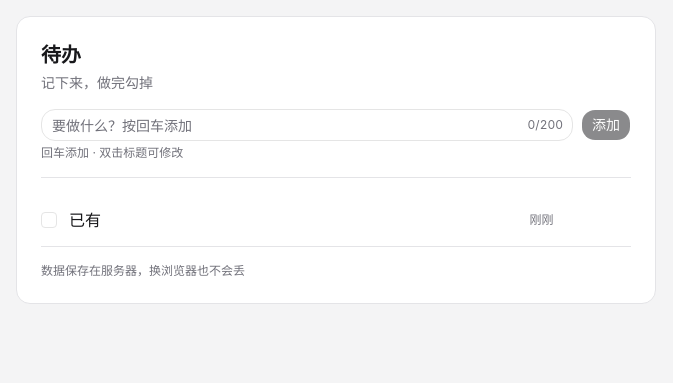
Test: Story 2.4 AddTodoForm / CapacityBanner（ATDD 主叶子） › [P1] AC-5 FE-A5 新增时后端返回 500（非 409）→ 显示操作失败提示而非容量横幅，输入仍可用、内容保留
The image size is (673, 383).
Check: the button with aria-label "编辑：已有" is shown, box 69,208 -> 517,232
Type "订周四会议室" into the field named "新增待办标题". click: [307, 125]
box: 41,109 -> 573,141
Then press Enter
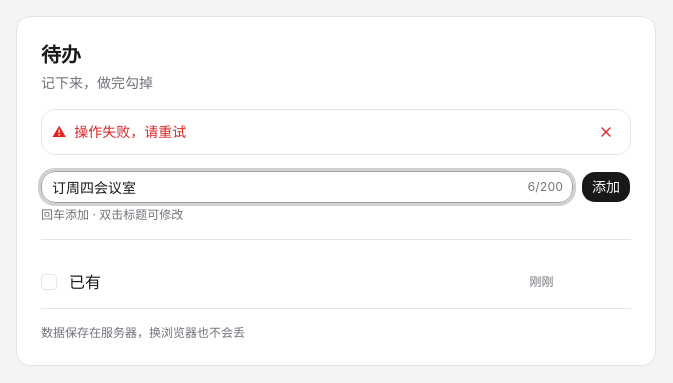
Check: the field named "新增待办标题" is enabled, box 41,171 -> 573,203
Check: the message shows "操作失败，请重试", box 74,123 -> 186,140
